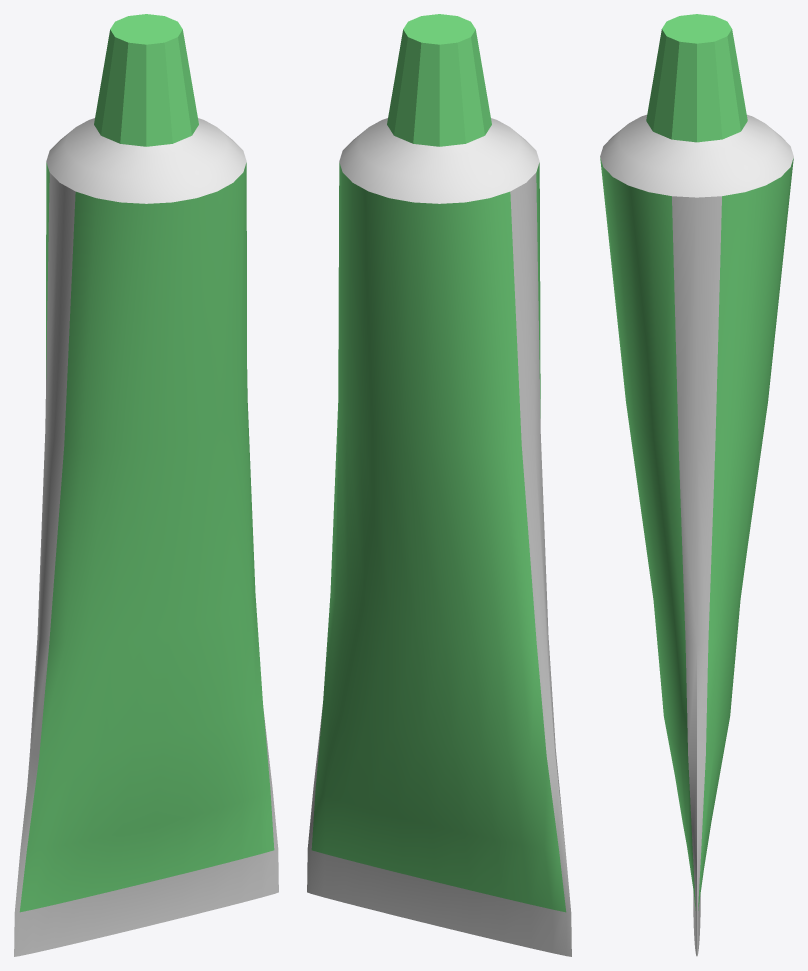
The model's file is Toothpaste.fbx.
3 renders of one model, left to right at view 1: azimuth 30°, elevation 25°; view 2: azimuth 150°, elevation 25°; view 3: azimuth 270°, elevation 25°, orthographic. The views are drawn at different scales.
Parts seen in each view (by area): view 1: Body, Cap; view 2: Body, Cap; view 3: Body, Cap.
Boxes of the visible parts, x1,y1,x2,y2 form: Body: (14, 118, 278, 956); Cap: (94, 14, 198, 146); Body: (307, 118, 571, 956); Cap: (387, 14, 491, 146); Body: (600, 114, 793, 956); Cap: (646, 14, 747, 142).
Bounding box in the file's own units: 0.8403 × 2.71 × 0.5507.
